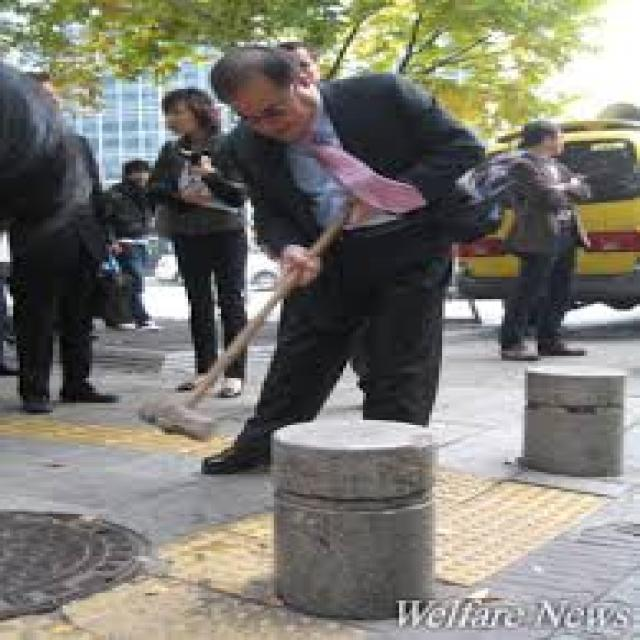bollard: (266, 411, 447, 628), (514, 354, 636, 486)
